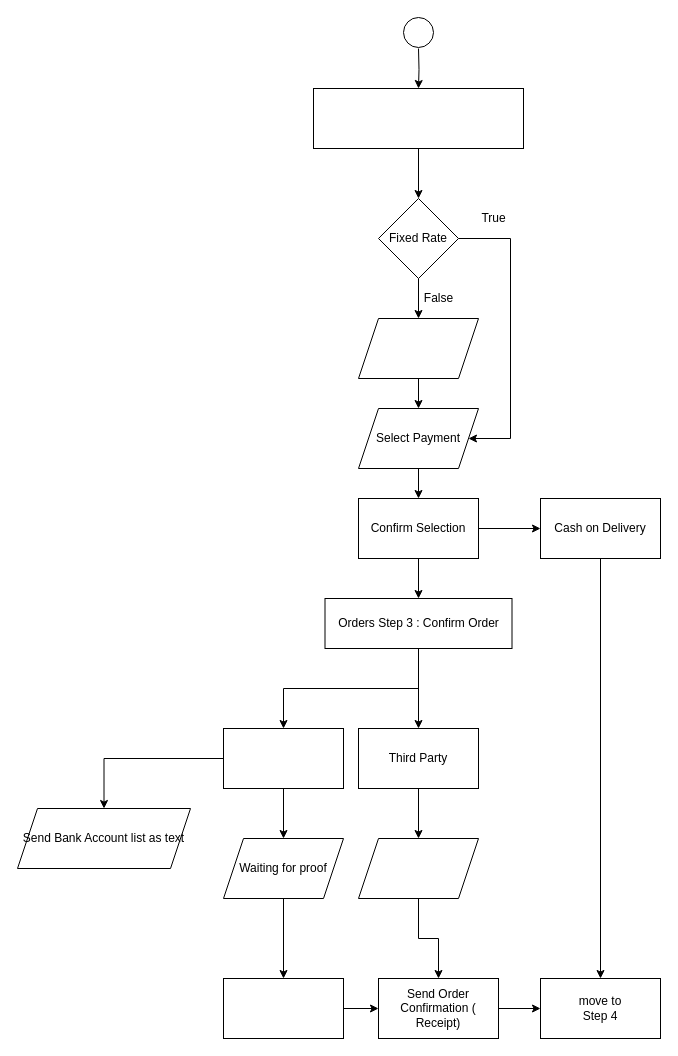
Some shapes in this 678 by 1056 pixel diagram are drawn without their labels. The shapes that lost their labels are listed below. From the top down, each one's centre as x and y in pixels, then its label:
At pixel 418 118: "Orders Step 2 : Waiting For Payment".
At pixel 418 348: "Select Logistic".
At pixel 283 758: "Bank Transfer".
At pixel 418 868: "Checkout".
At pixel 283 1008: "Shop Confirm Payment".
